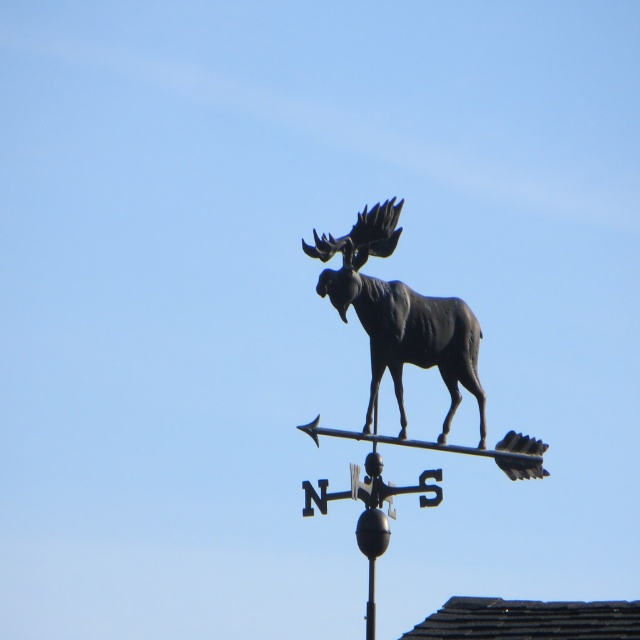Deer: (302, 194, 487, 449)
